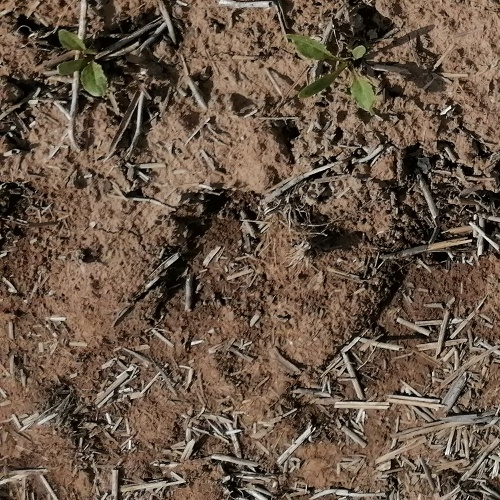beet: (286, 34, 378, 118), (56, 28, 110, 98)
